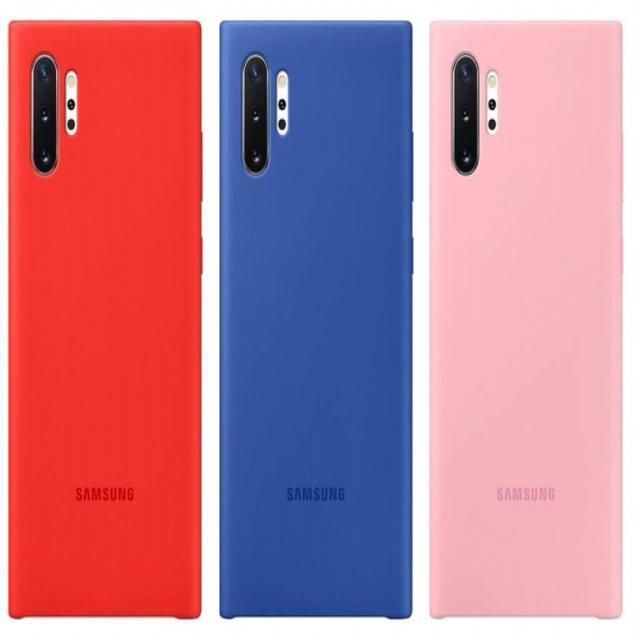phone: (6, 15, 206, 622), (216, 13, 414, 626), (430, 15, 626, 618)
